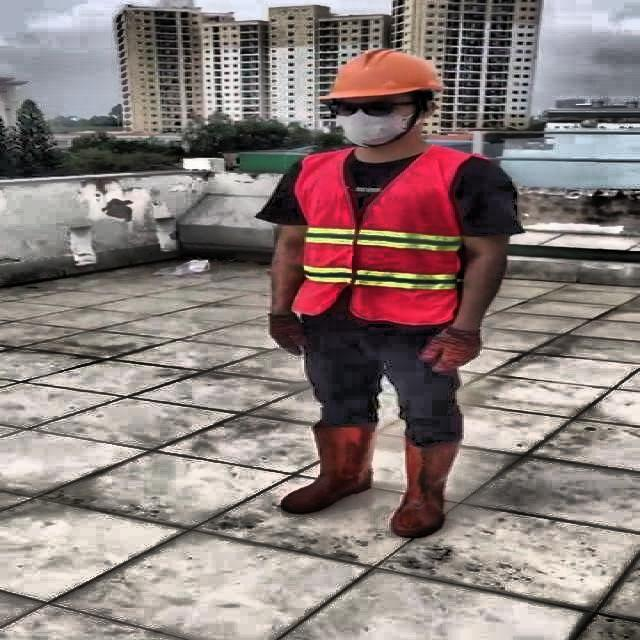safety_helmet: (315, 45, 443, 102)
safety_jacket: (286, 149, 468, 323)
